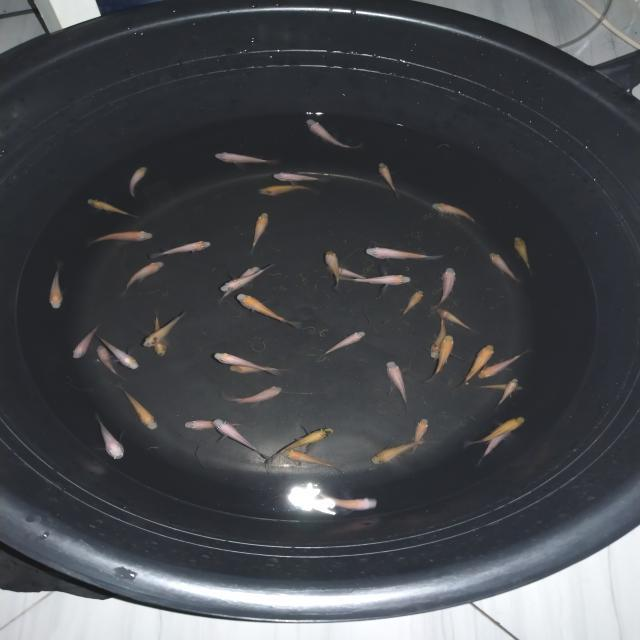nila: (260, 424, 334, 471), (455, 412, 527, 446), (450, 342, 500, 390), (214, 414, 266, 460), (236, 292, 300, 326), (470, 416, 512, 467), (474, 342, 533, 378), (216, 262, 272, 298), (299, 116, 354, 150), (116, 386, 158, 430), (216, 262, 260, 304), (118, 260, 166, 298), (90, 412, 128, 460), (420, 334, 458, 381), (370, 437, 424, 470), (141, 311, 190, 347), (210, 348, 276, 374), (364, 242, 441, 264), (97, 334, 142, 369), (80, 194, 140, 220), (224, 382, 283, 408), (276, 448, 338, 472), (483, 247, 522, 285), (84, 228, 154, 249), (150, 236, 211, 260), (320, 326, 364, 359), (424, 311, 452, 362), (384, 356, 411, 406), (428, 198, 477, 225), (242, 210, 272, 254), (308, 493, 376, 512), (146, 308, 171, 358), (68, 324, 100, 362), (92, 342, 124, 380), (432, 266, 460, 309), (342, 274, 416, 290), (207, 150, 275, 167), (250, 182, 320, 198), (404, 418, 432, 458), (435, 304, 474, 332), (182, 414, 242, 432), (512, 231, 538, 272), (44, 264, 66, 312), (320, 247, 343, 289), (374, 160, 400, 195), (226, 363, 294, 376), (394, 288, 424, 317), (125, 162, 148, 198), (264, 171, 326, 184), (494, 377, 518, 408), (481, 381, 526, 396), (332, 262, 368, 280)
